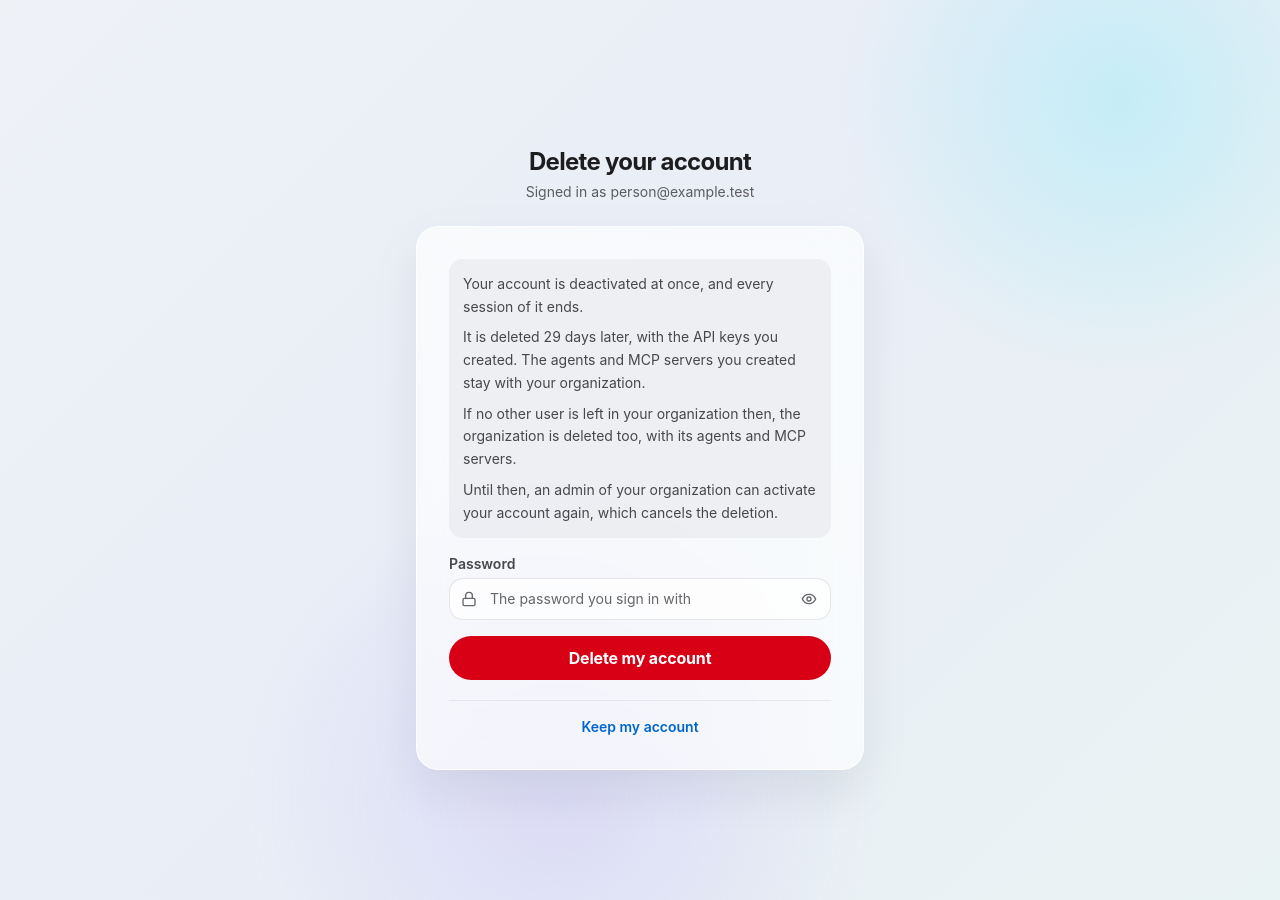
Scenario: delete account page › shows a refused password in the alert, marks the input and keeps the form
In the password field labelled "Password": [640, 599] box [449,578,831,620], type "not-a-real-password"
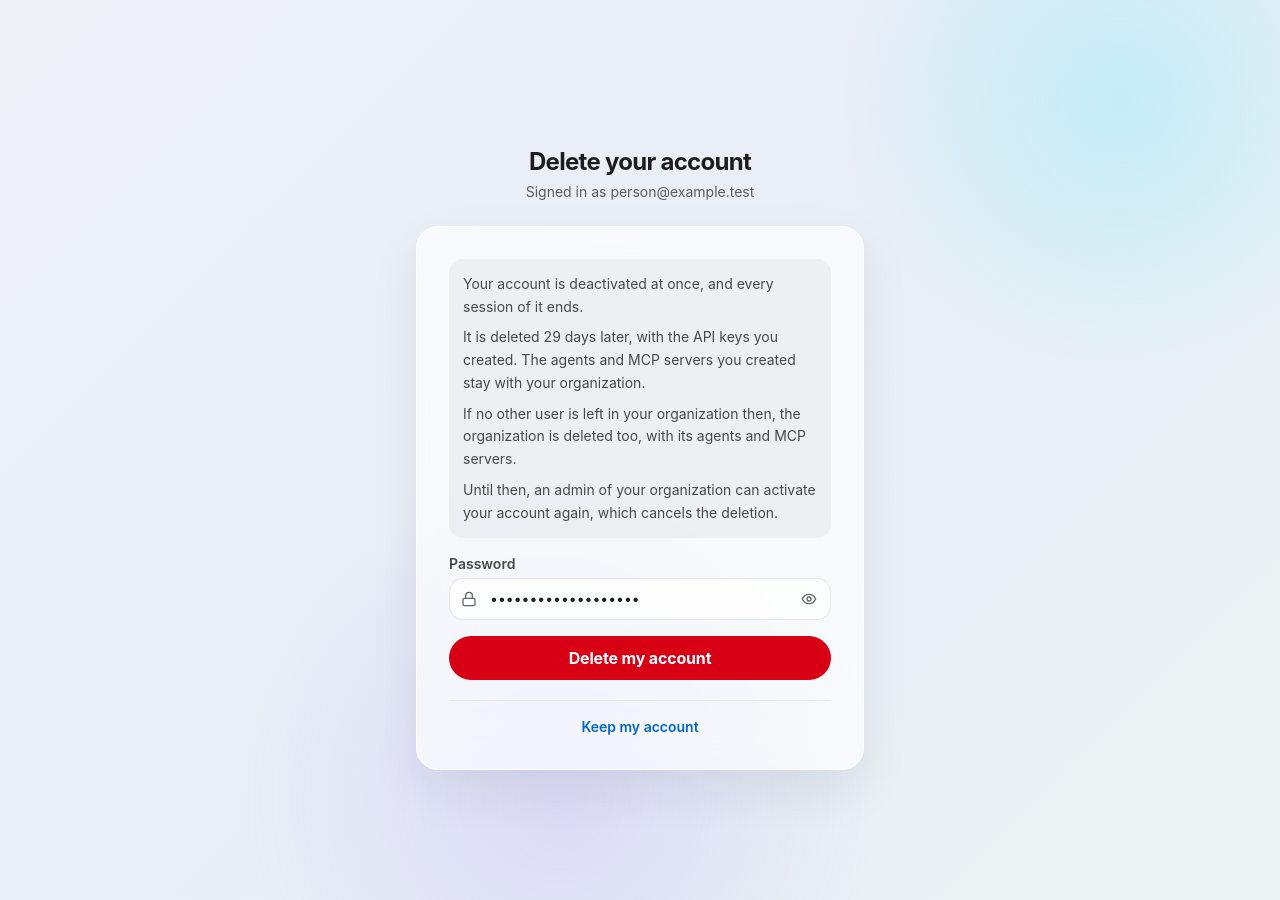
Click the button "Delete my account": [640, 658] box [449,636,831,680]
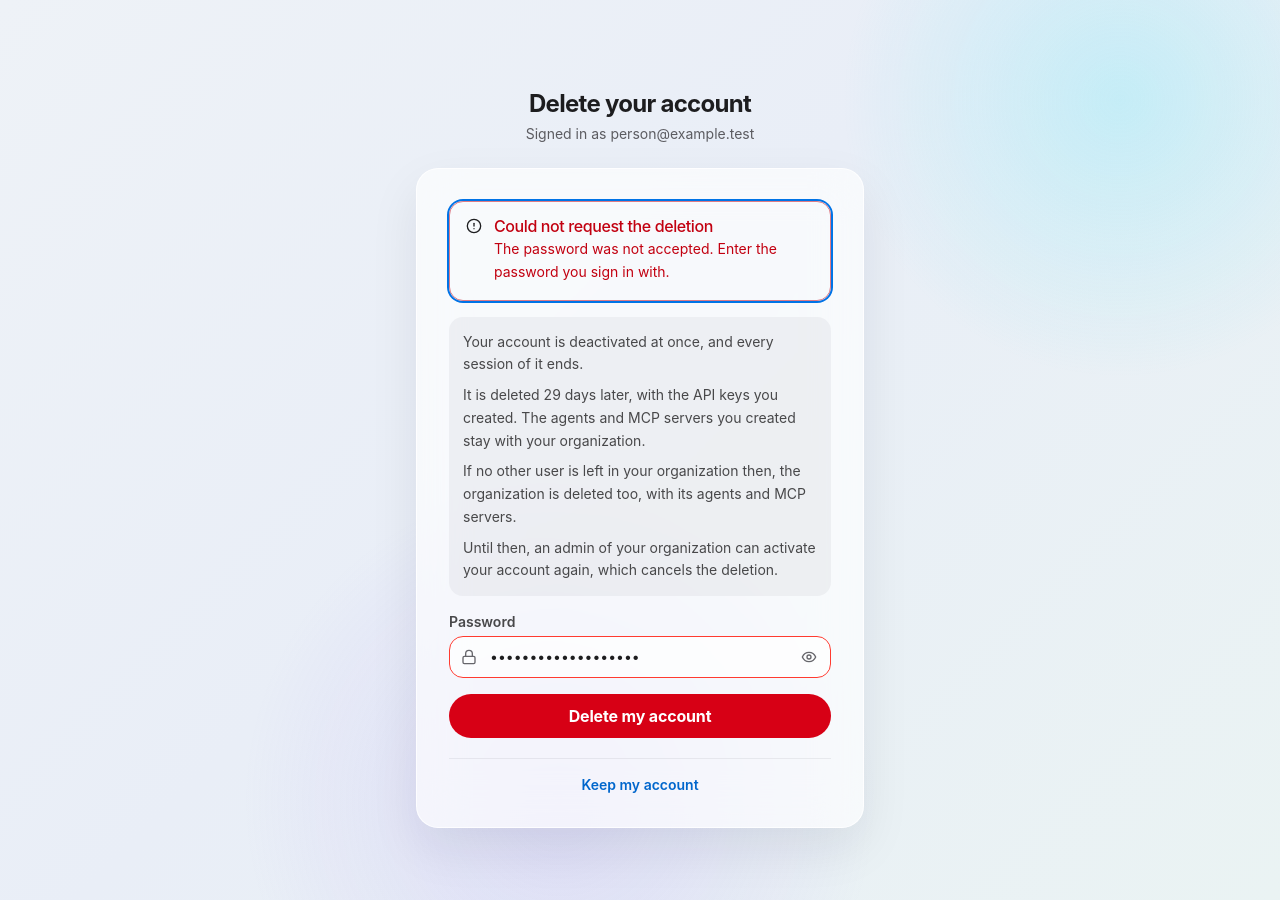
Expected: the button "Delete my account" is shown, [449,694,831,738]
Now the text "The password was not accepted. Enter the password you sign in with." is shown, box [494,238,814,284]
Now the message shows "Could not request the deletion", box [494,216,713,236]
